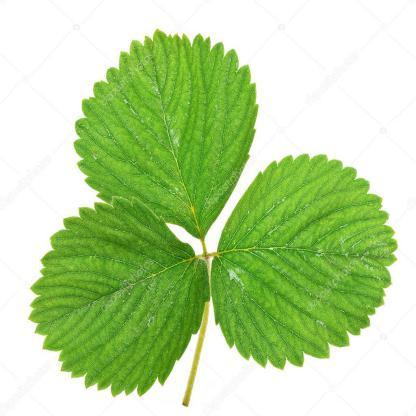Strawberry leaf: (207, 132, 398, 378), (19, 196, 240, 395), (73, 26, 261, 242)
